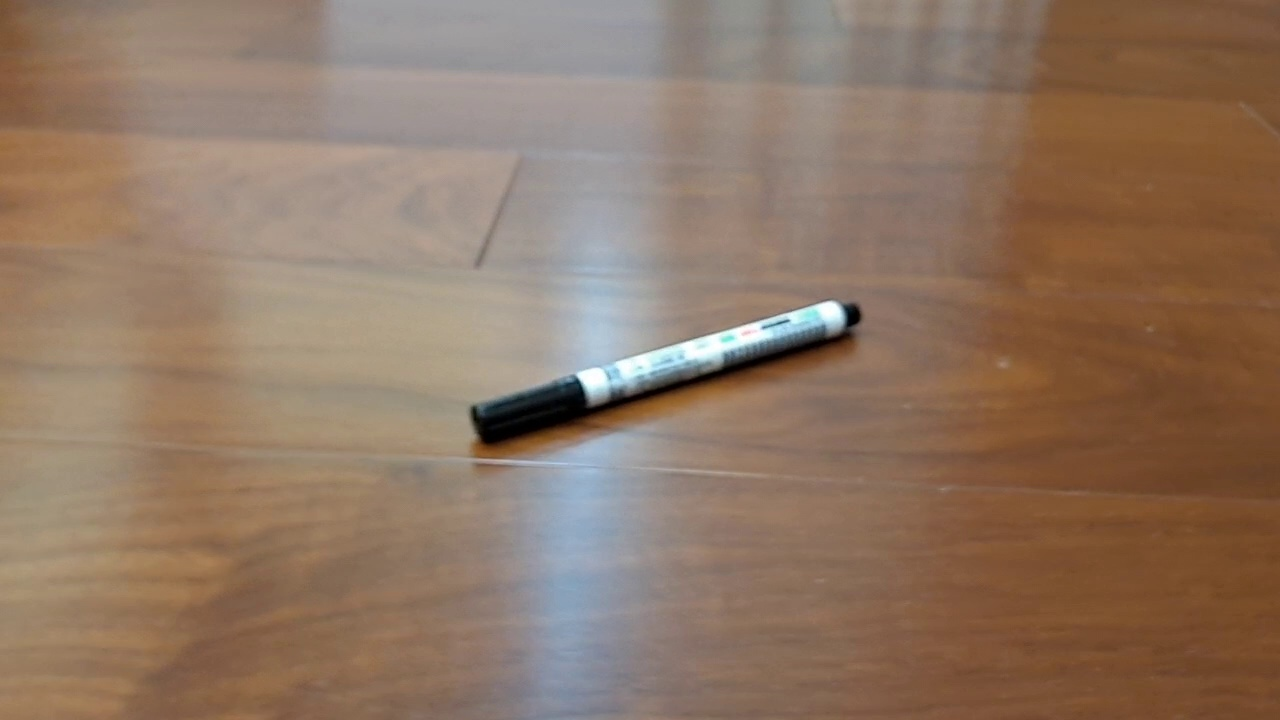pen: (470, 298, 862, 444)
